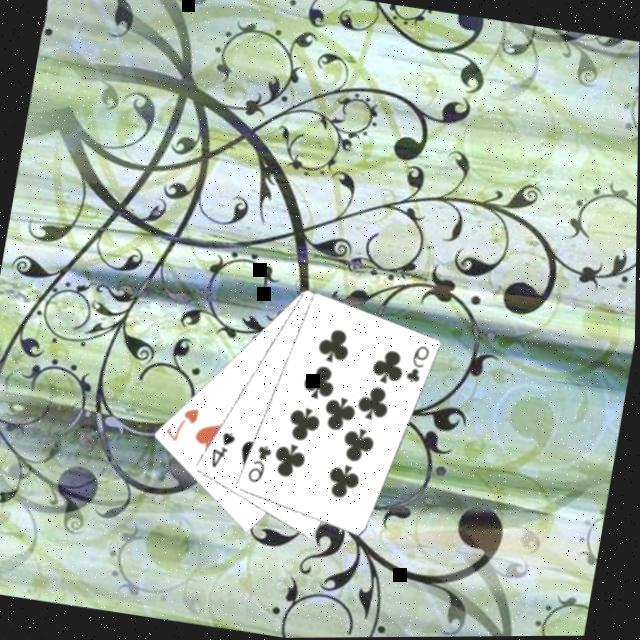4S: (207, 428, 241, 476)
7H: (162, 402, 204, 450)
9C: (244, 442, 278, 490), (402, 343, 434, 390)
